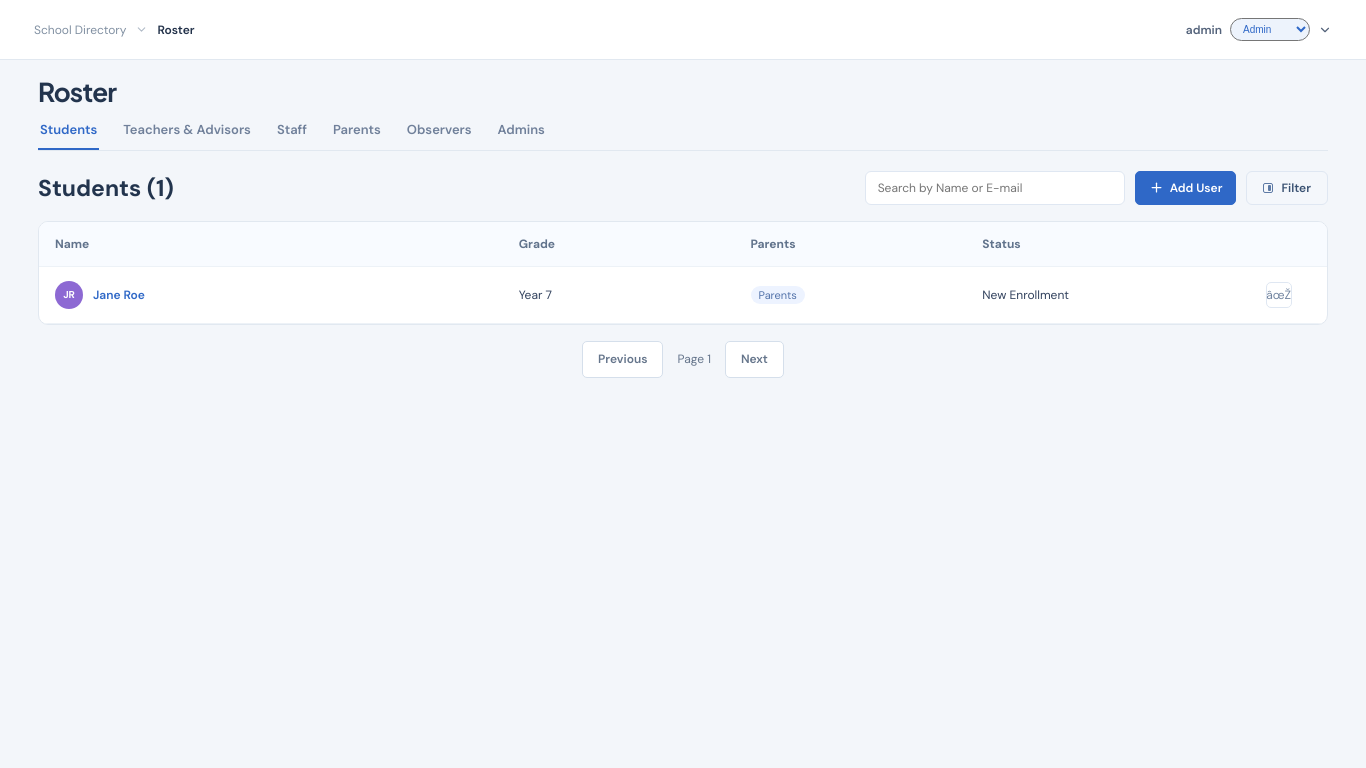
Test: RosterPage › edits a parent by clicking the name on the Parents tab
The image size is (1366, 768).
Click the button "Parents". click: (357, 135)
box: [331,121,383,150]
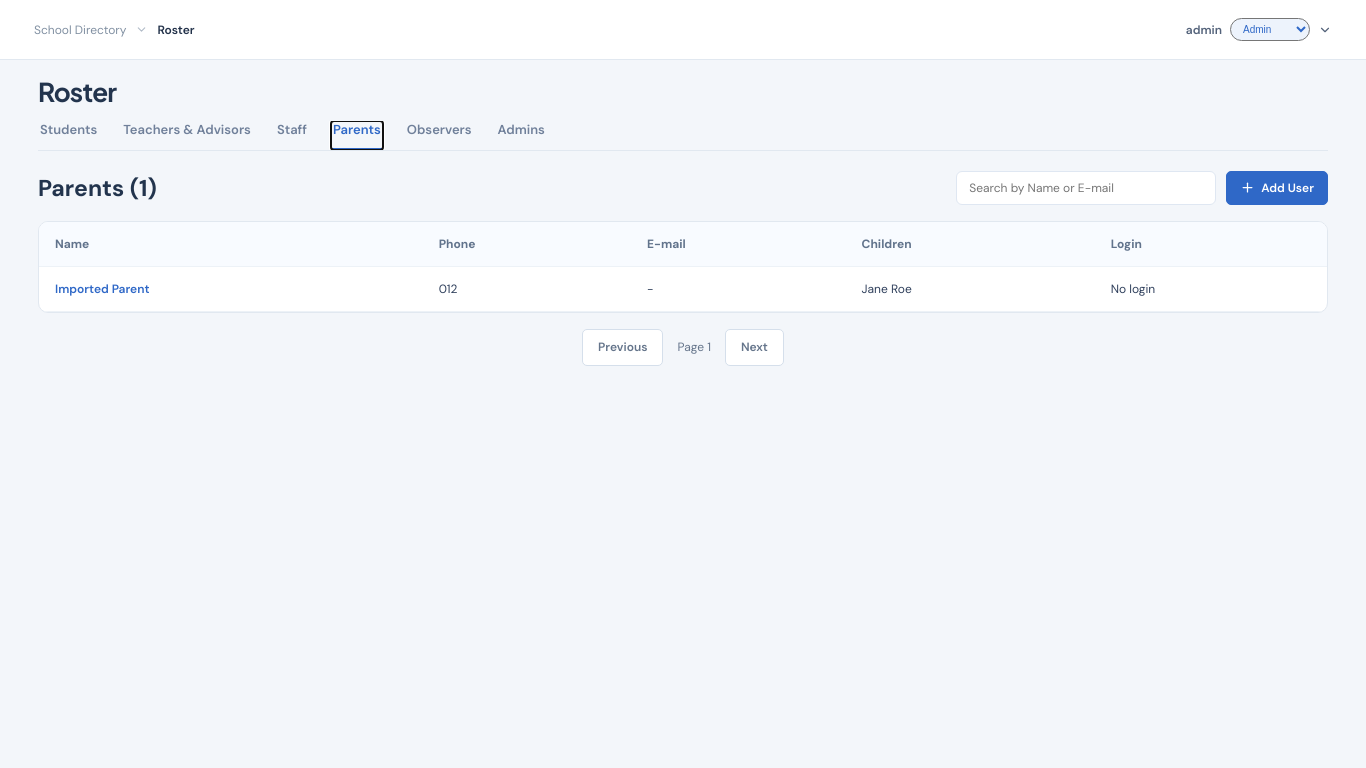
Click the button "Imported Parent". click: (102, 289)
box: [55,281,150,297]
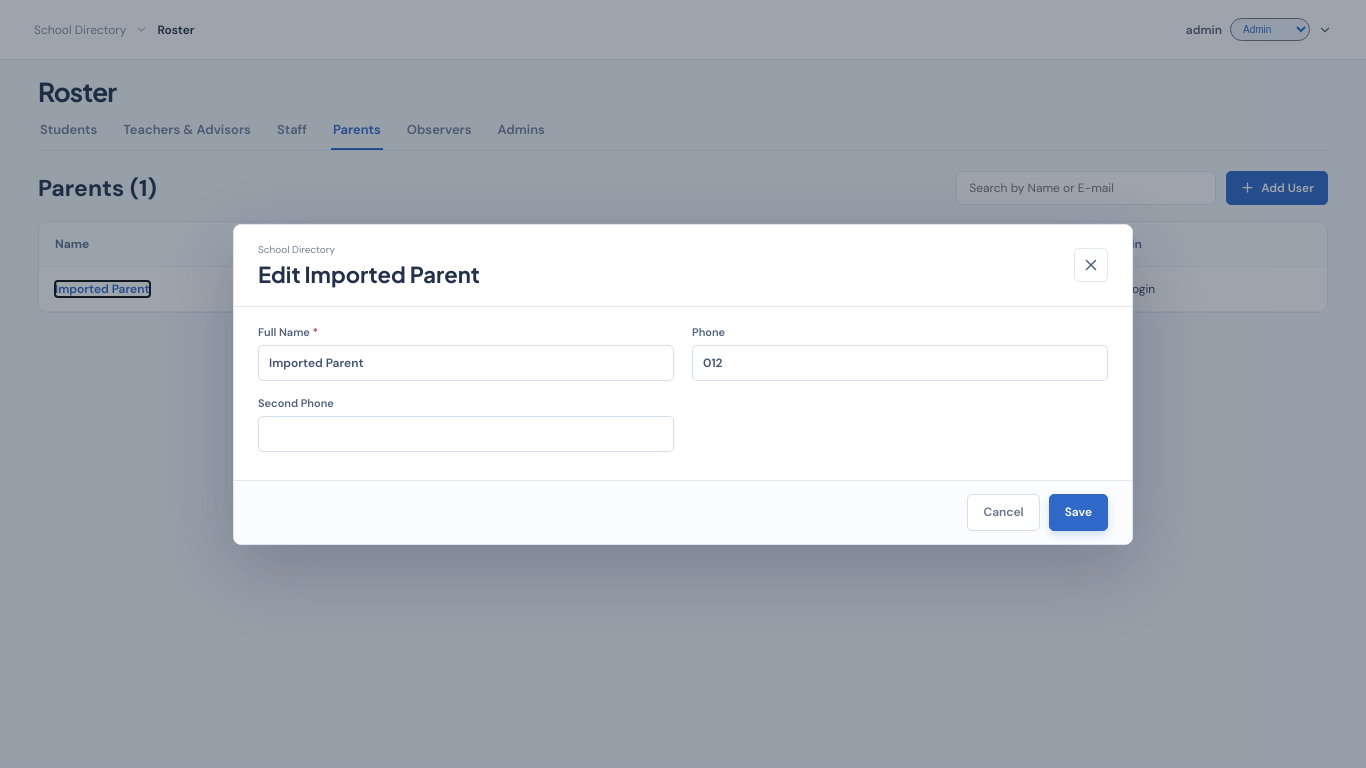
Replace the text in the field labelled "Phone" with "099". click: (900, 362)
box: [692,344,1108,380]
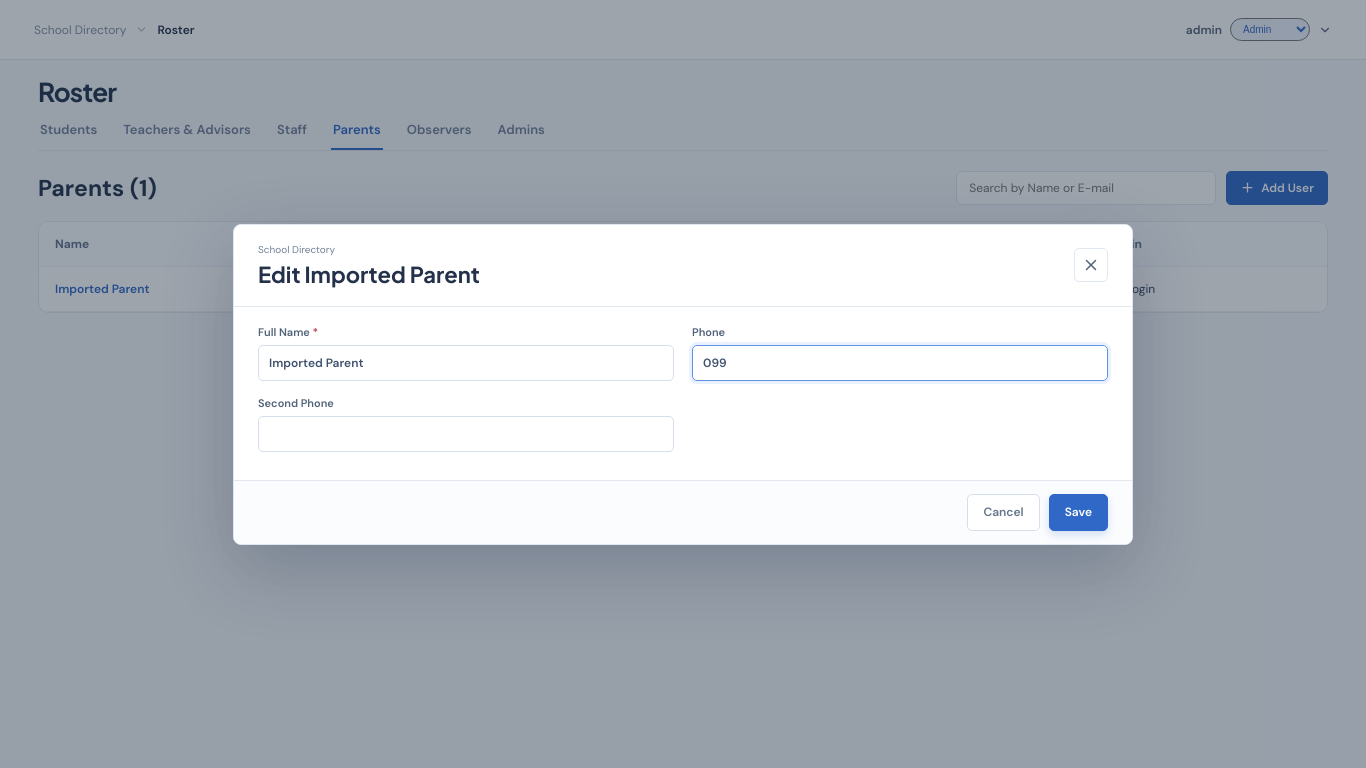
Click the button "Save". click: (1078, 512)
box: [1049,494,1108,530]
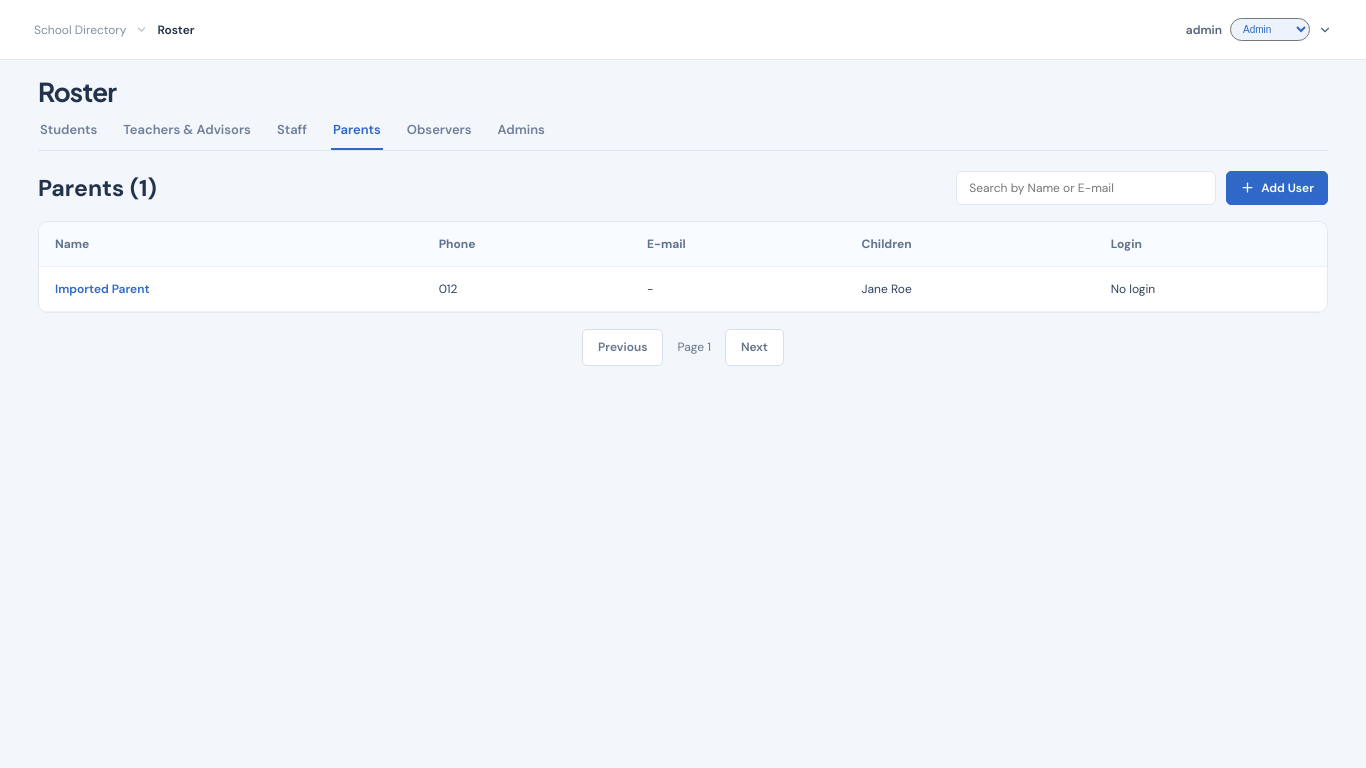
Now the dialog is gone
